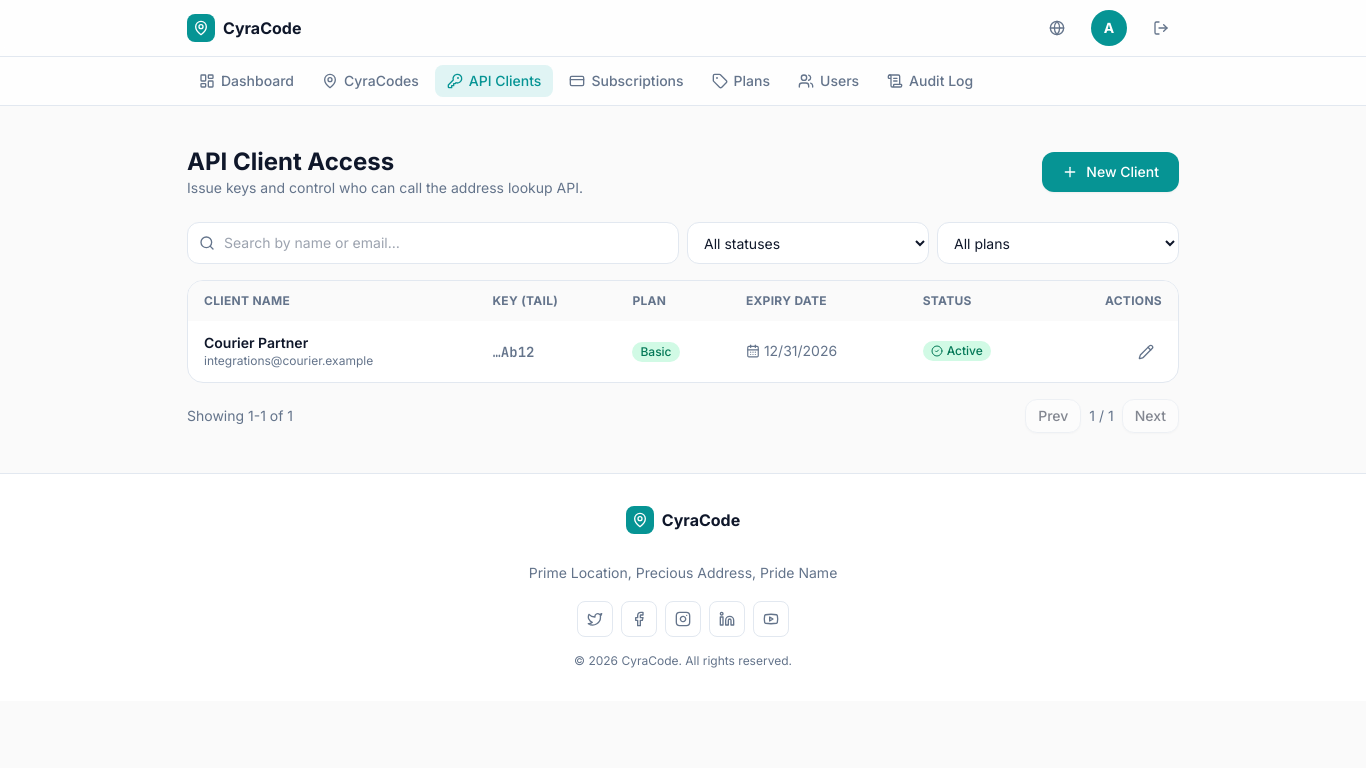
AdminClients › closing the create form leaves the list untouched
expect the text "Courier Partner" is shown: met, box [204, 334, 308, 351]
What coordinates should you click on to do the following:
click the button "New Client"
I would click on:
 (1111, 172)
Its box is [1042, 152, 1179, 192].
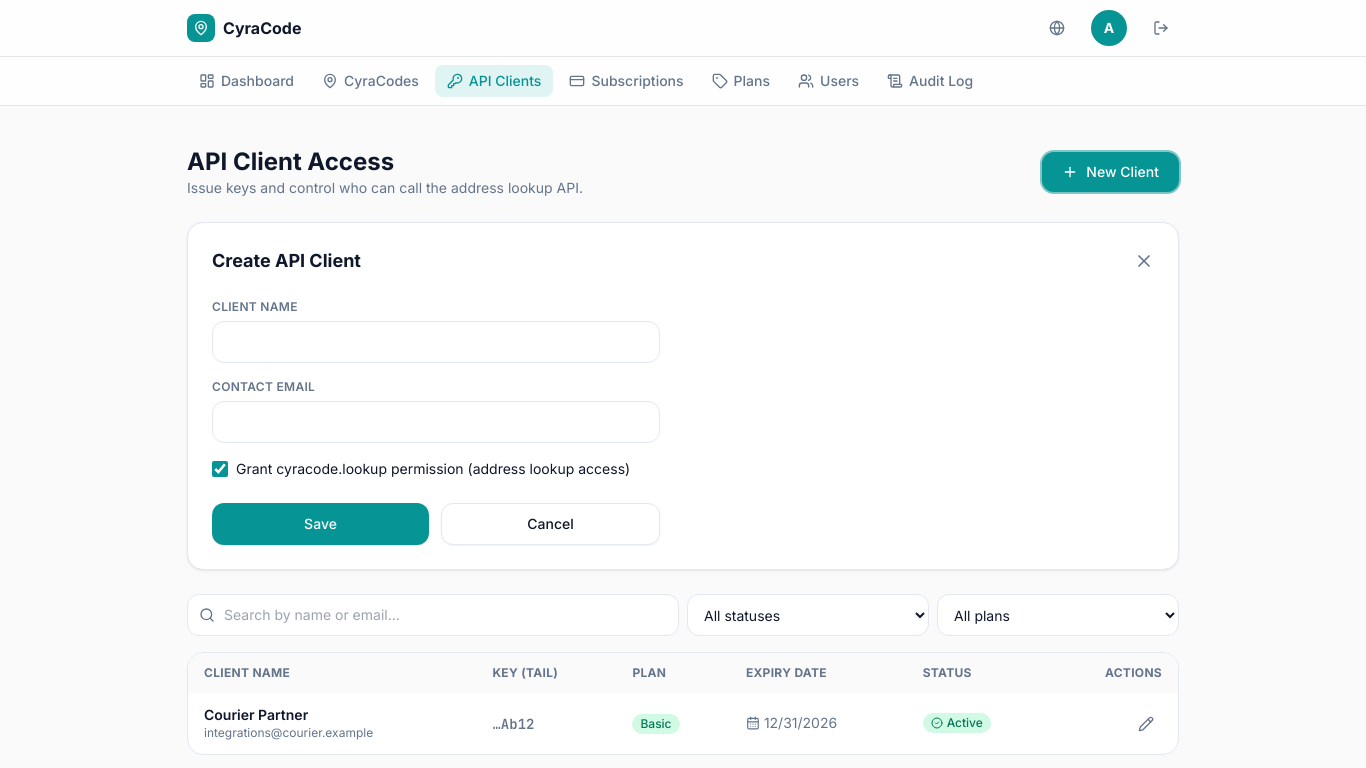
expect the element "Create API Client" is shown: met, box [187, 222, 1179, 570]
What coordinates should you click on to do the following:
click the button "Cancel"
I would click on:
 (550, 524)
Its box is [441, 503, 660, 545].
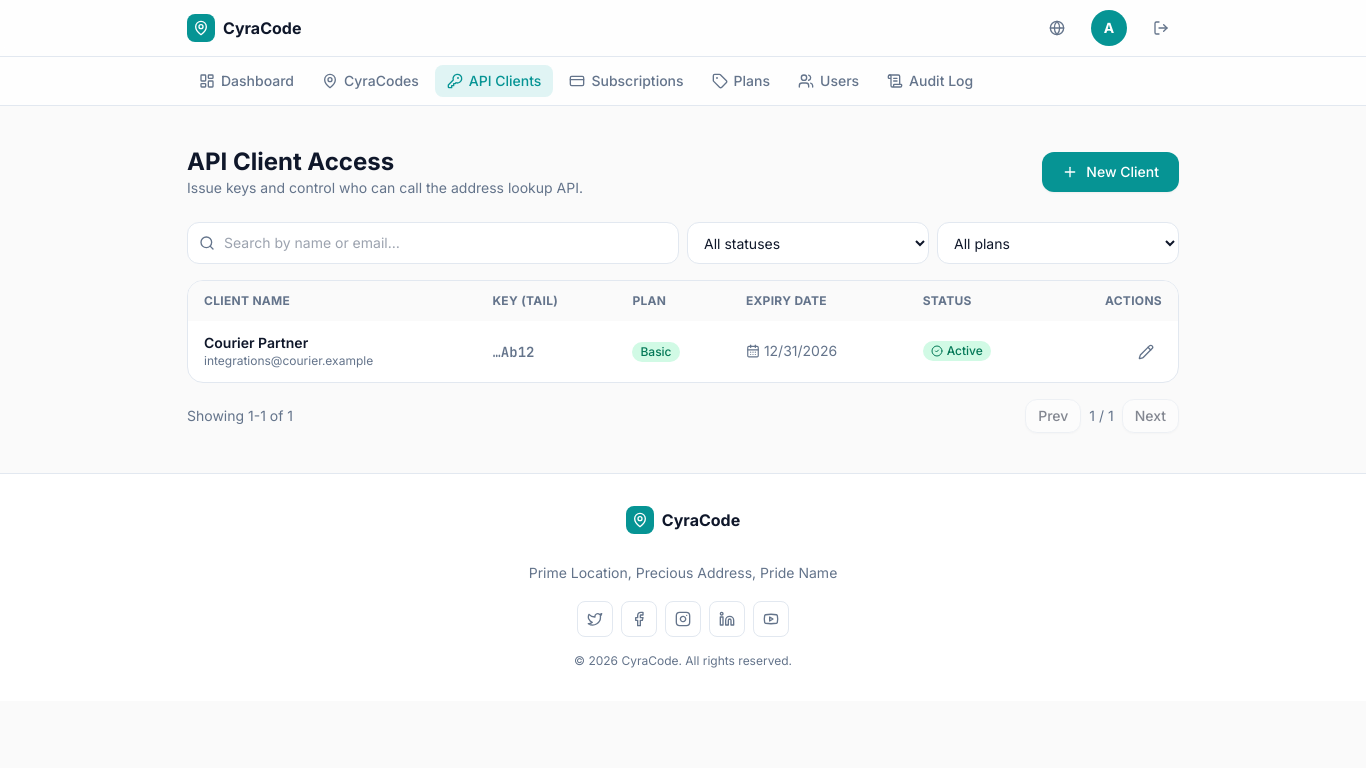
expect the text "…Ab12" is shown: met, box [492, 342, 534, 360]
expect the heading "Create API Client" is gone: met
